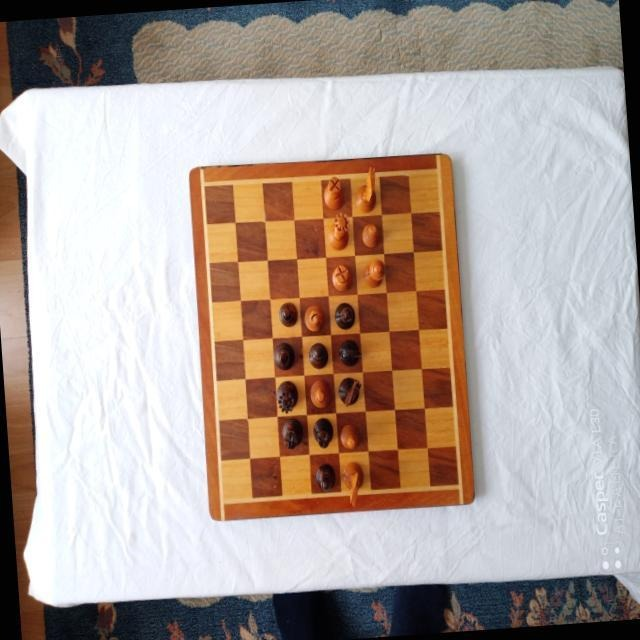black-bishop: (272, 342, 296, 370), (334, 301, 356, 330)
black-king: (307, 343, 329, 369)
black-knight: (337, 375, 363, 409), (337, 337, 362, 367)
black-pawn: (315, 463, 337, 491), (277, 300, 299, 327)
black-queen: (276, 379, 300, 414)
black-rook: (280, 417, 304, 450), (312, 416, 334, 449)
white-bishop: (308, 378, 331, 408), (302, 304, 326, 332)
white-king: (361, 257, 387, 289)
white-knight: (341, 460, 366, 507), (353, 166, 378, 212)
white-pawn: (339, 424, 360, 450), (360, 223, 380, 248)
white-queen: (325, 211, 350, 251)
white-rook: (322, 175, 346, 209), (331, 264, 353, 292)
